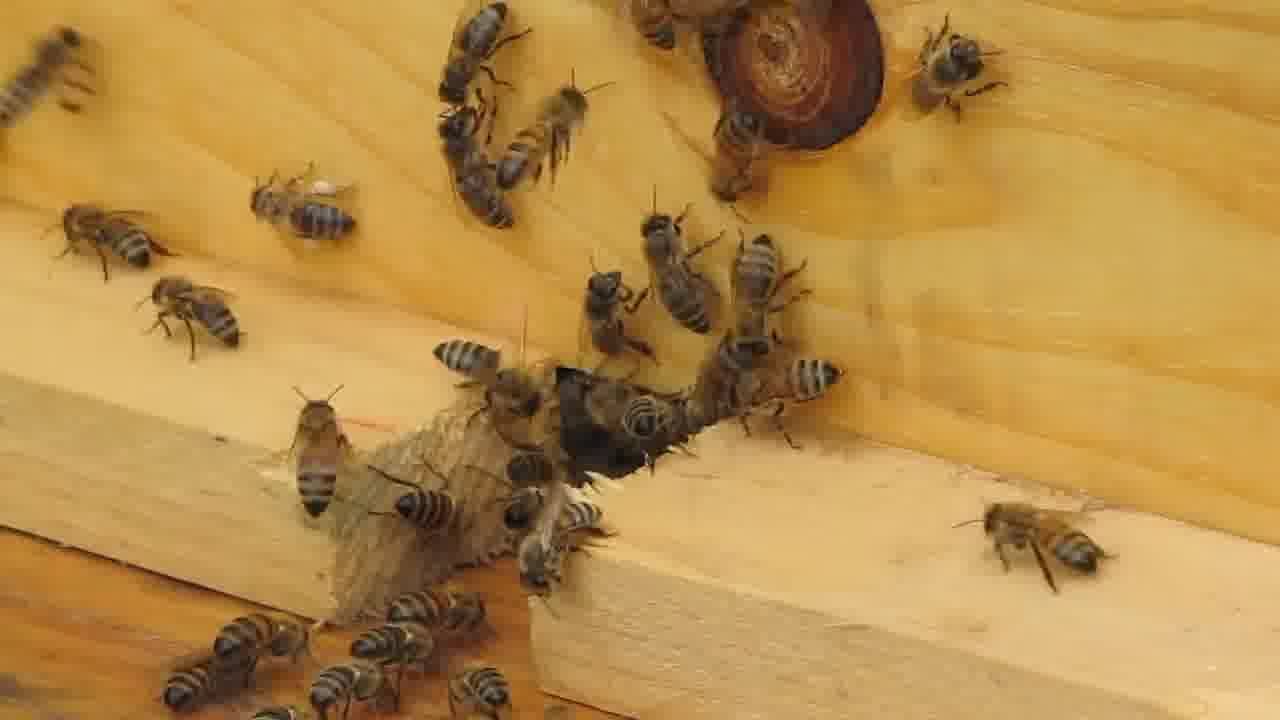pollen: (246, 163, 375, 250)
